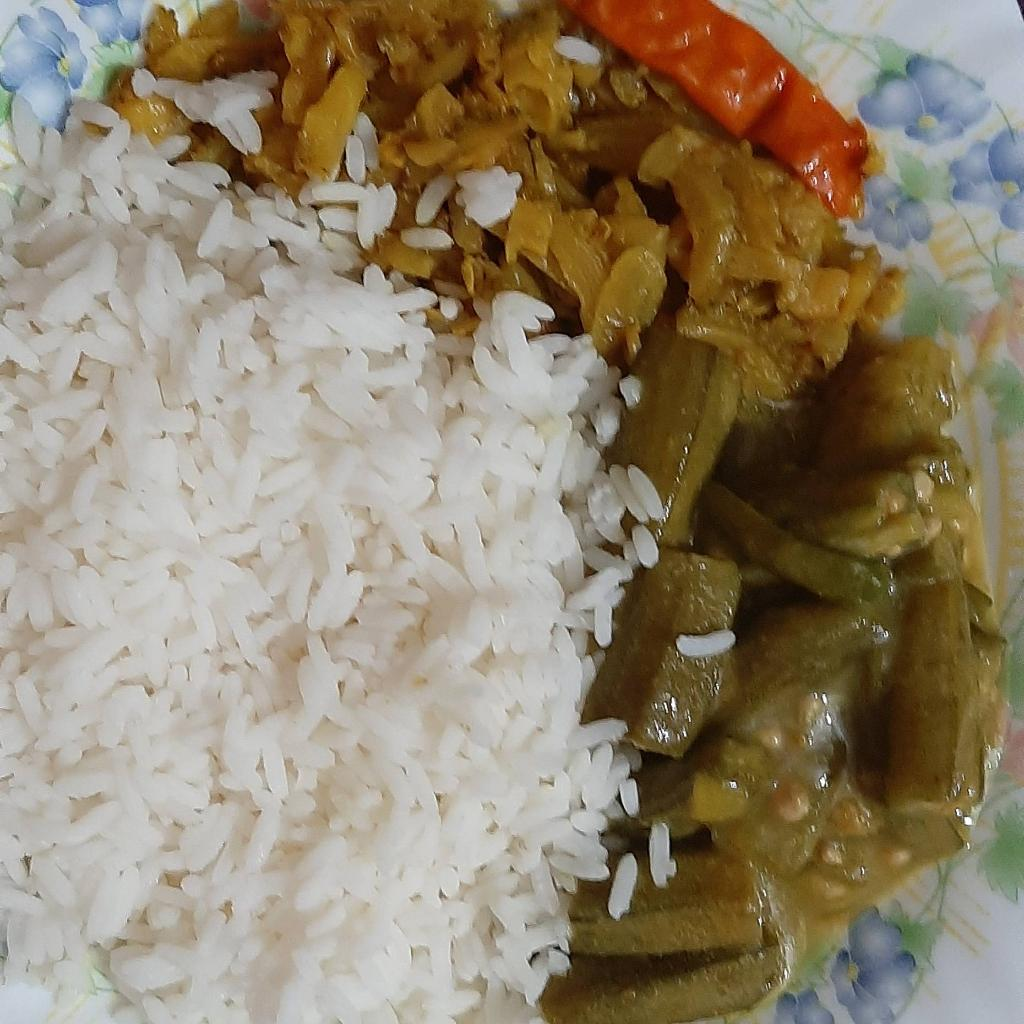kumra-vaji: (105, 0, 908, 357)
okra: (557, 310, 1008, 1022)
rice: (0, 94, 670, 1023)
